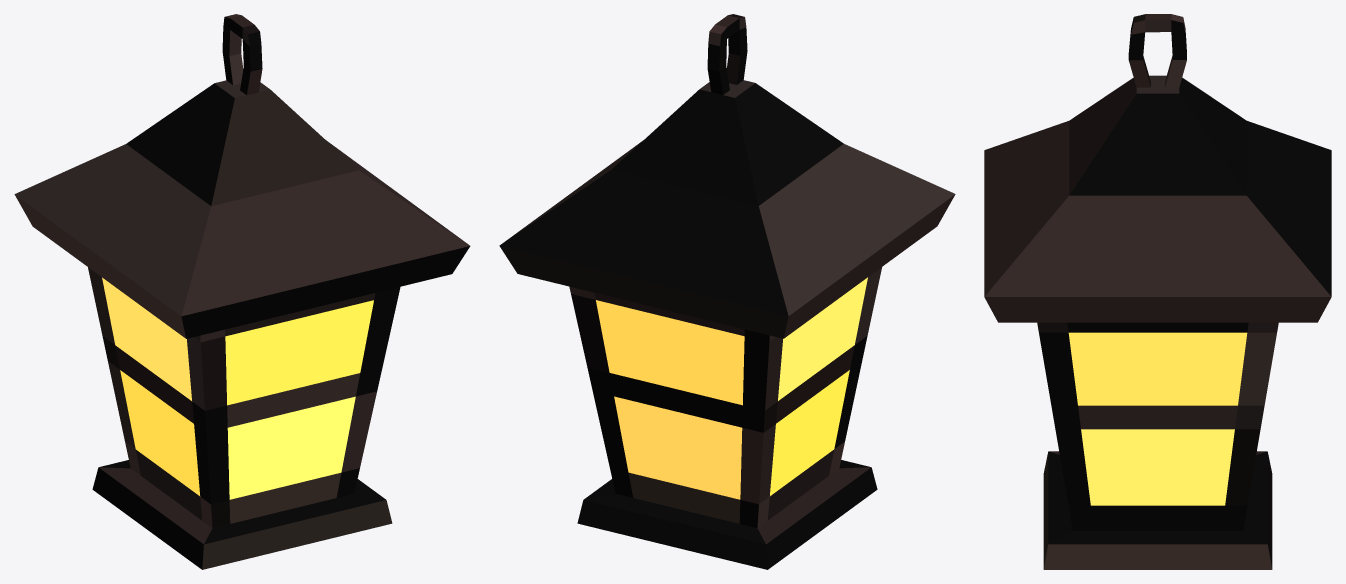
Rendered from Lamp01Lit.glb.
3 renders of one model, left to right at view 1: azimuth 30°, elevation 25°; view 2: azimuth 150°, elevation 25°; view 3: azimuth 270°, elevation 25°, orthographic. The views are drawn at different scales.
Visible parts, largest first — view 1: Lamp01Lit; view 2: Lamp01Lit; view 3: Lamp01Lit.
Part boxes in pixels (bbox=[...]): Lamp01Lit: bbox=[14, 14, 470, 569]; Lamp01Lit: bbox=[499, 14, 955, 569]; Lamp01Lit: bbox=[984, 14, 1331, 569].
Bounding box in the file's own units: 0.3602 × 0.5774 × 0.3602.
